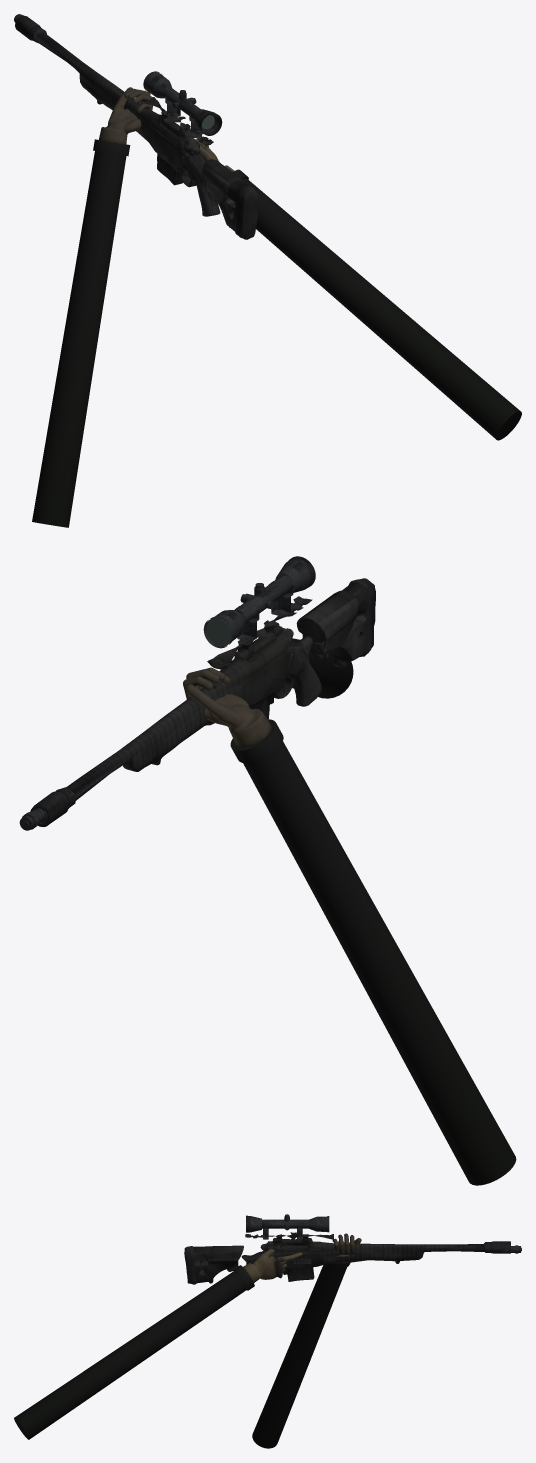
The model's file is corvus.glb.
3 renders of one model, top to bottom at view 1: azimuth 30°, elevation 25°; view 2: azimuth 150°, elevation 25°; view 3: azimuth 270°, elevation 25°, orthographic. The views are drawn at different scales.
Parts seen in each view (by area): view 1: arms_L_corvus, arms_R_corvus, base, dressing; view 2: arms_L_corvus, base, dressing, arms_R_corvus, mag; view 3: arms_R_corvus, base, arms_L_corvus, dressing.
Boxes of the visible parts, left/top/right/bottom form: arms_L_corvus: left=32, top=87, right=152, bottom=527; arms_R_corvus: left=184, top=138, right=521, bottom=440; base: left=15, top=15, right=258, bottom=239; dressing: left=14, top=14, right=222, bottom=135; arms_L_corvus: left=183, top=667, right=516, bottom=1185; base: left=30, top=578, right=375, bottom=826; dressing: left=19, top=556, right=315, bottom=830; arms_R_corvus: left=258, top=637, right=353, bottom=698; mag: left=293, top=636, right=326, bottom=706; arms_R_corvus: left=14, top=1249, right=302, bottom=1439; base: left=184, top=1232, right=510, bottom=1284; arms_L_corvus: left=252, top=1233, right=361, bottom=1448; dressing: left=246, top=1214, right=521, bottom=1263.
Size of the model in its own units: 0.9185 by 1.09 by 1.79.
Materials: 8 (5 with a texture image).
